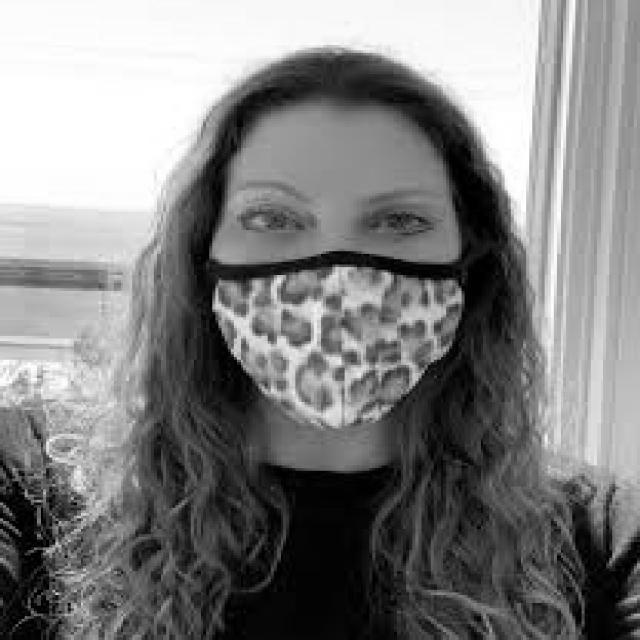fake: (201, 247, 469, 434)
real: (208, 103, 465, 443)
